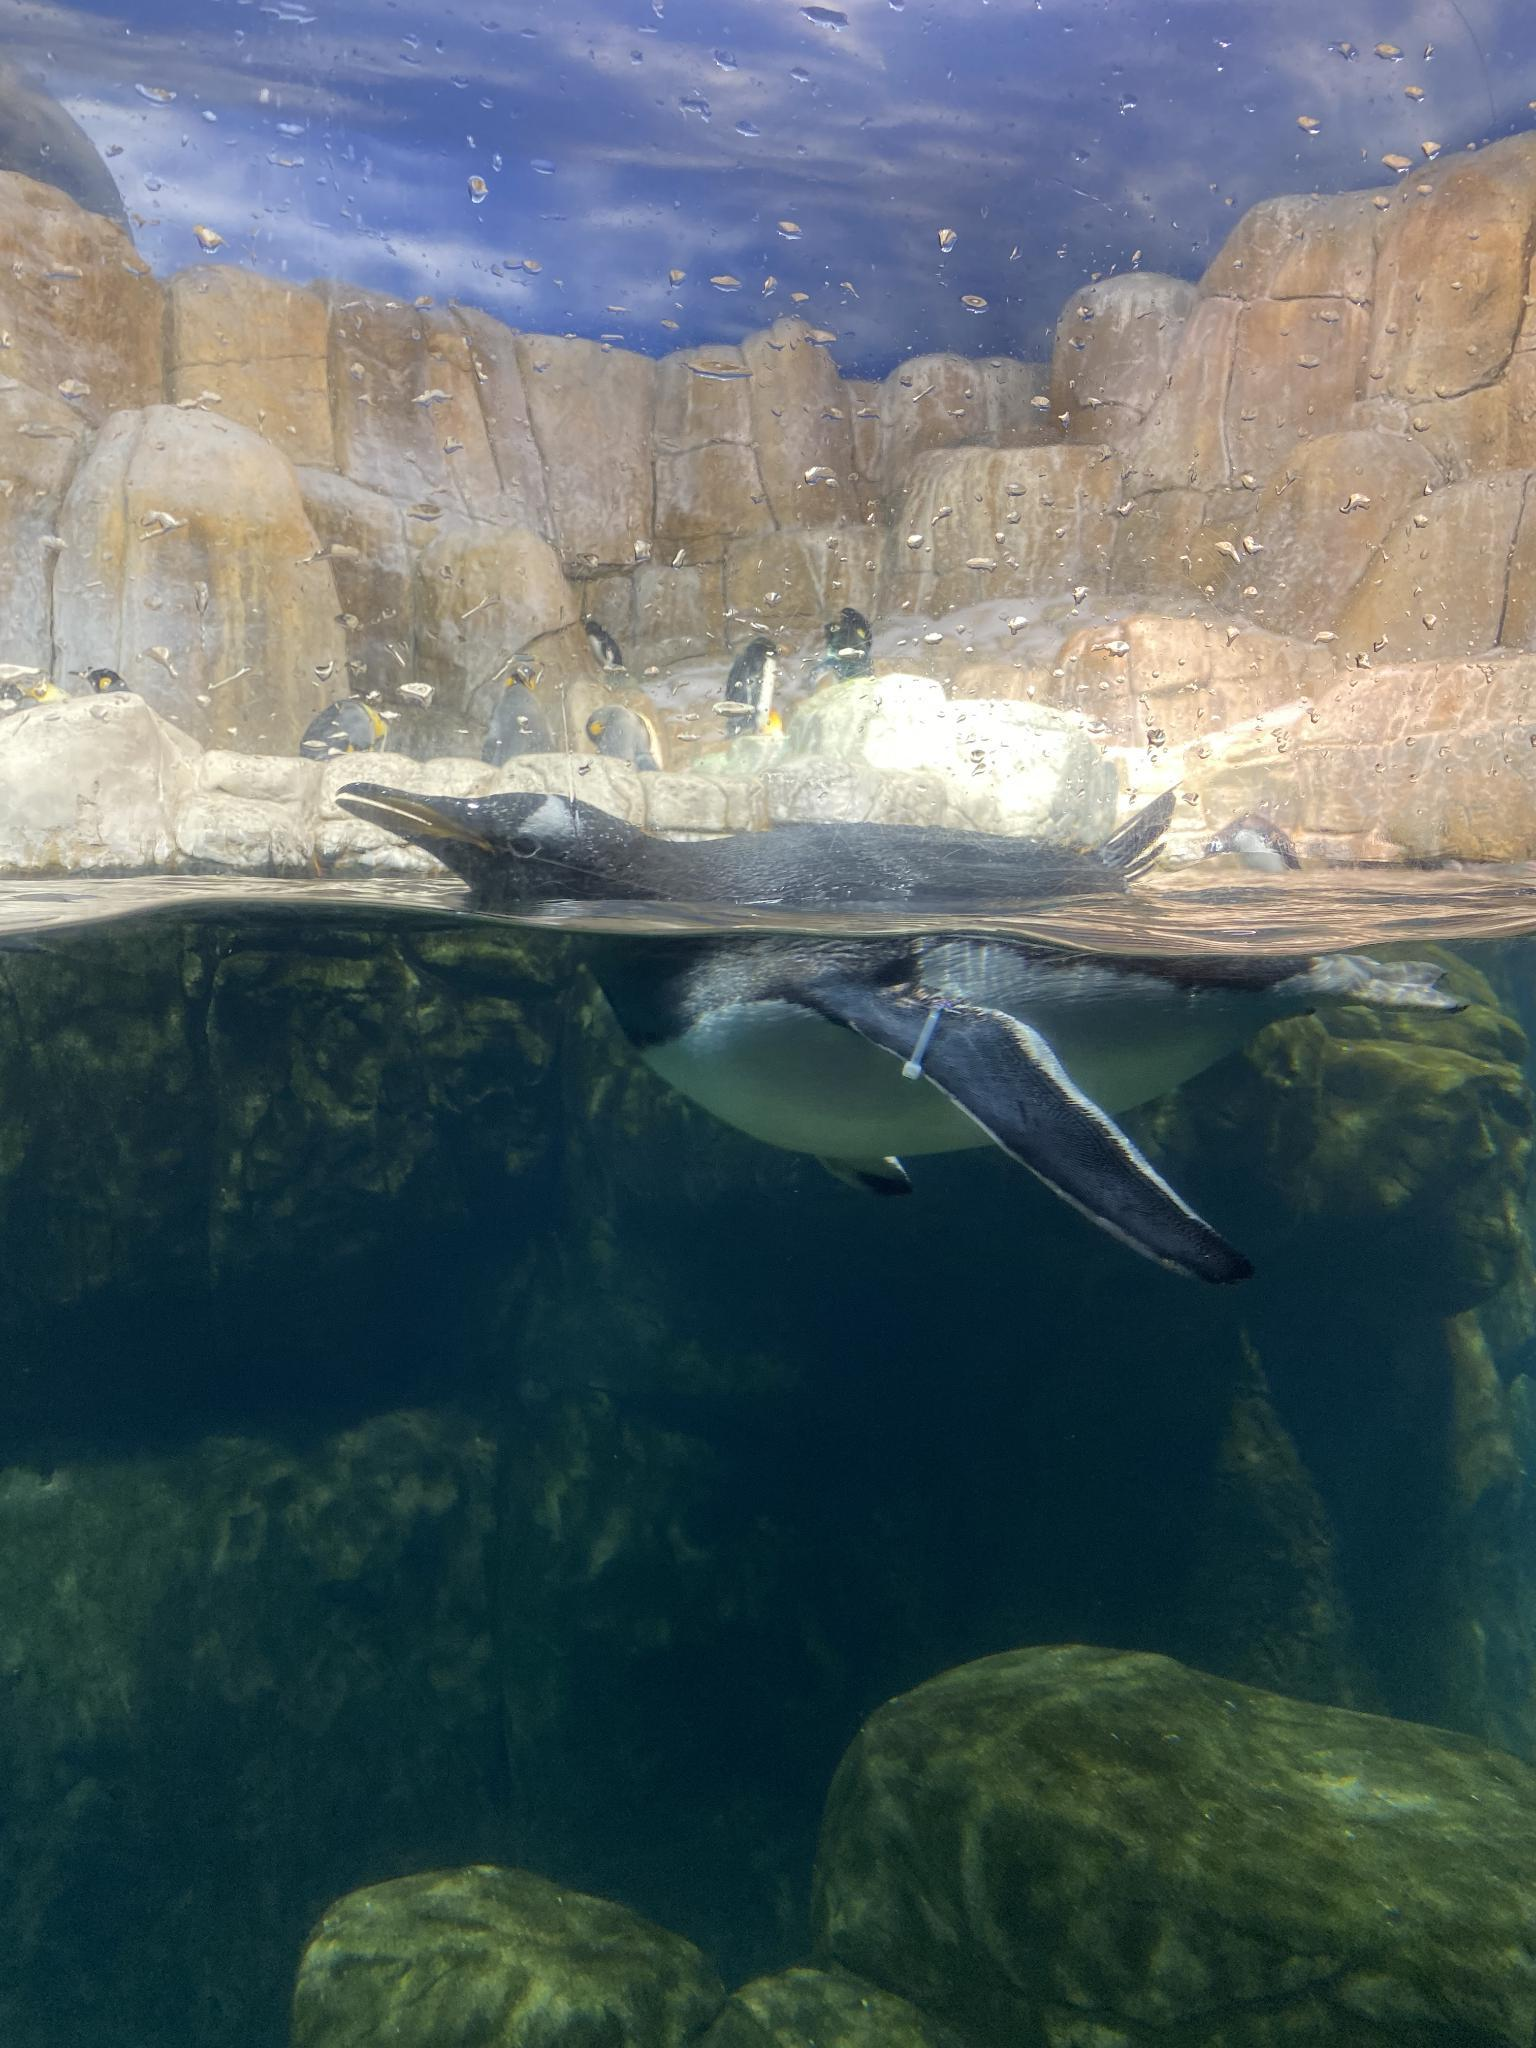penguin: (316, 743, 1425, 1251), (481, 647, 555, 787), (712, 631, 787, 755), (279, 681, 386, 760), (591, 685, 666, 774), (821, 600, 878, 693), (82, 650, 144, 716)
